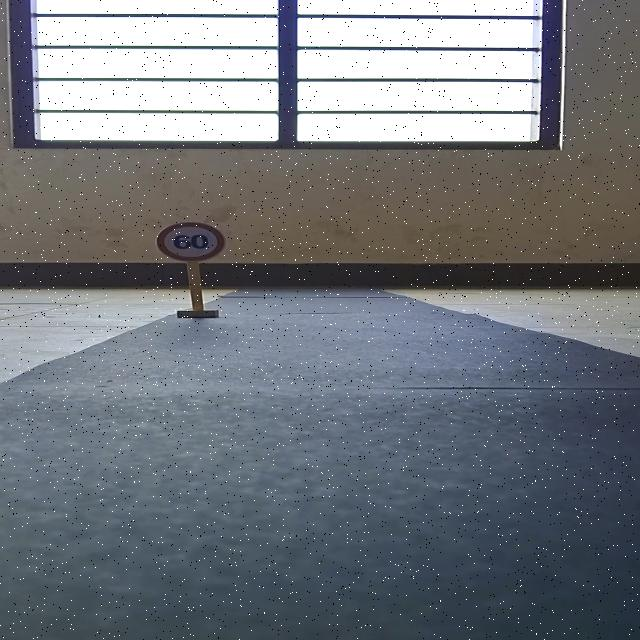Speed60: (155, 220, 225, 260)
